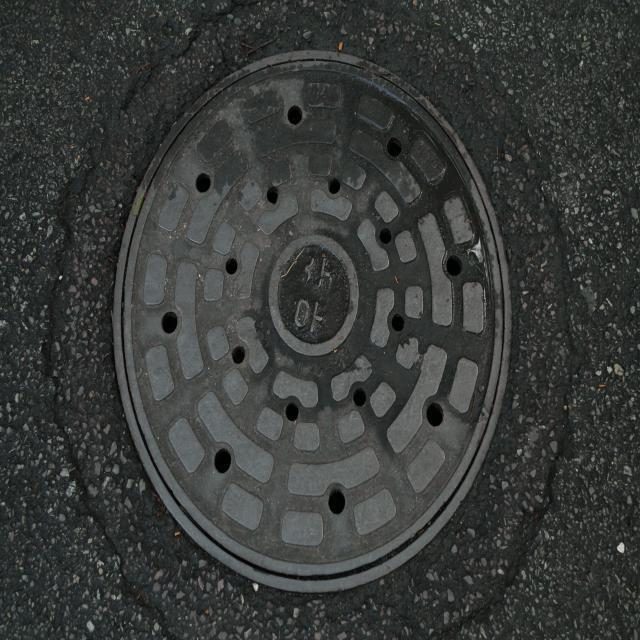manhole: (114, 51, 510, 592)
